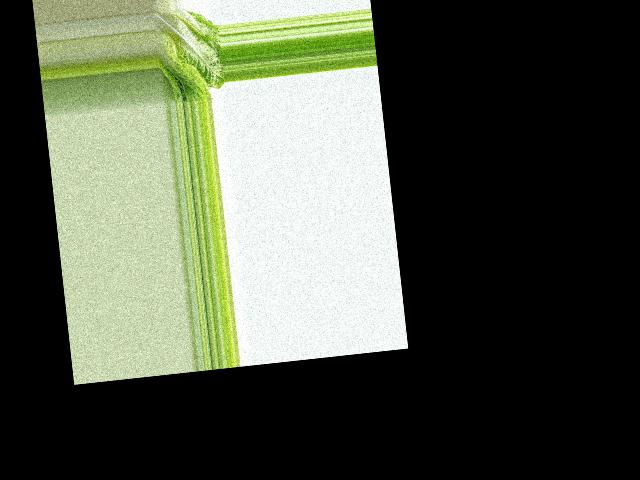lettuce: (153, 4, 225, 106)
